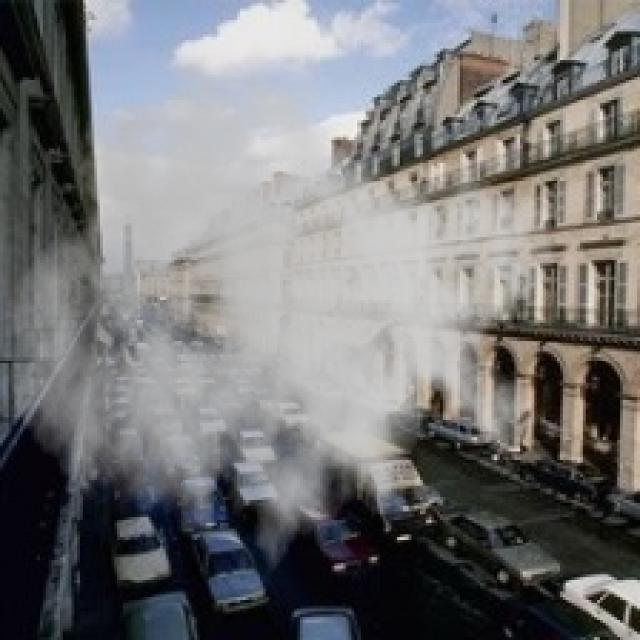Smoke: (5, 39, 558, 594)
